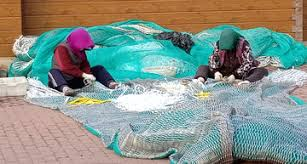net: (189, 113, 300, 159), (137, 113, 189, 145), (208, 86, 263, 111)
